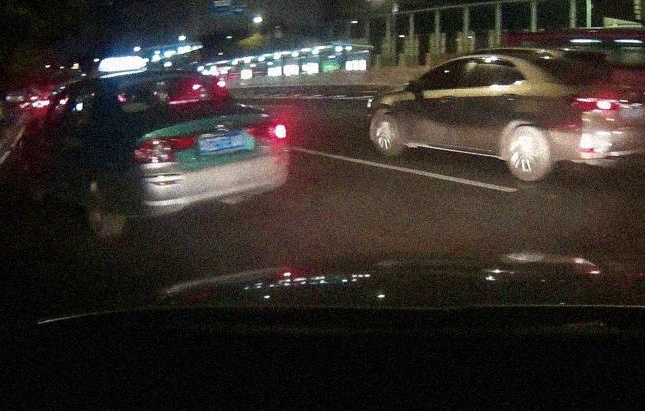L_light: (132, 134, 195, 163)
R_light: (245, 119, 288, 147)
T_light: (168, 98, 199, 104)
night-right: (96, 69, 290, 242)
